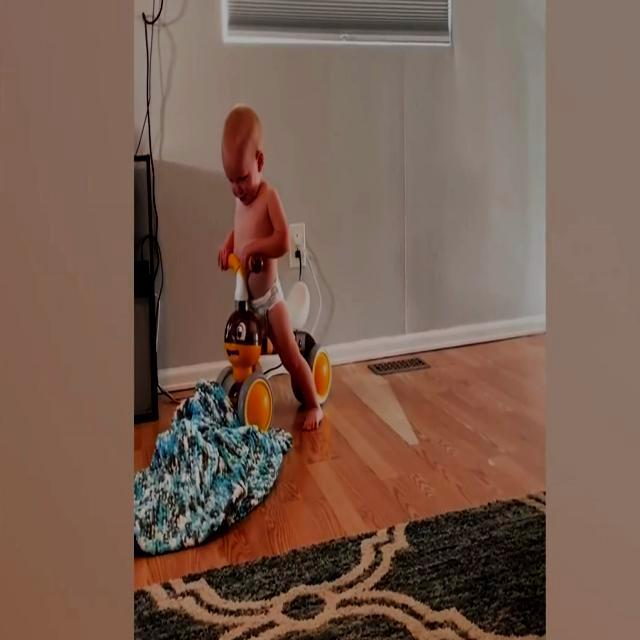child: (217, 100, 324, 440)
